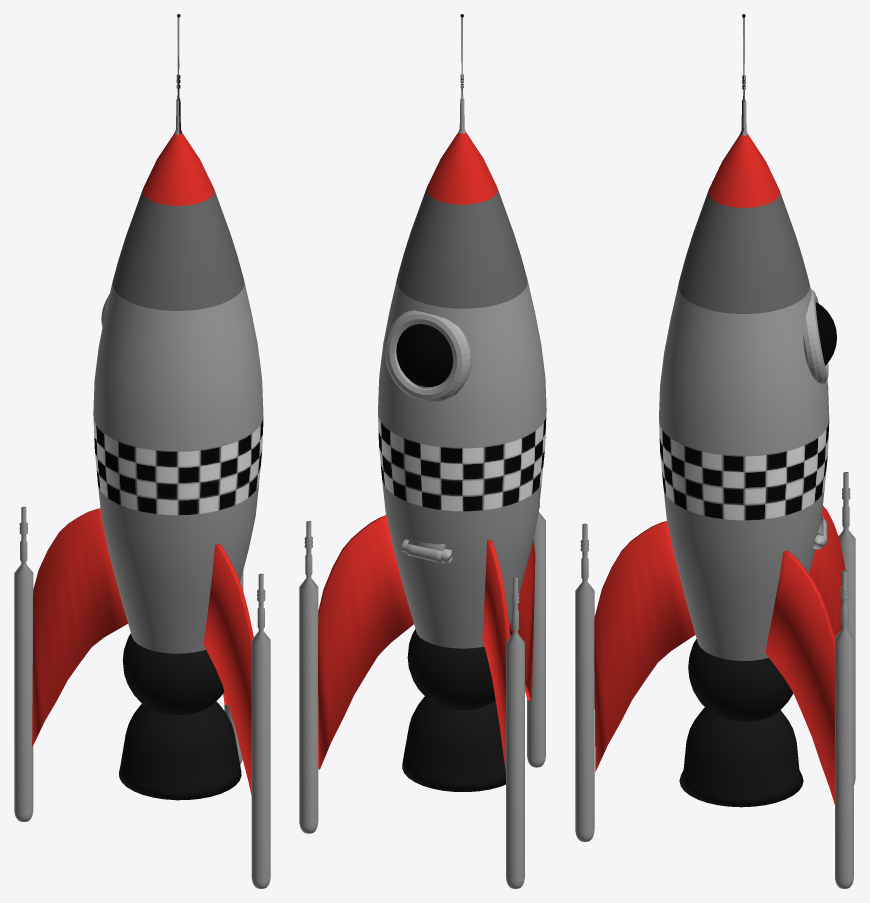
File: rocket.glb
The picture shows the model from 3 angles, left to right: view 1: azimuth 30°, elevation 25°; view 2: azimuth 150°, elevation 25°; view 3: azimuth 270°, elevation 25°; orthographic projection.
Parts seen in each view (by area): view 1: Cylinder_3, Plane.000_15, Cylinder.007_18, Cylinder.014_25, Cylinder.002_9, Plane.002_13, Sphere.001_5, Cylinder.005_12, Cylinder.003_14, Cylinder.008_19; view 2: Cylinder_3, Plane.001_11, Cylinder.007_18, Cylinder.014_25, Cylinder.002_9, Cylinder.004_10, Cylinder.003_14, Sphere.001_5, Cylinder.005_12, Torus_8, Cylinder.008_19, Plane.000_15 (+2 smaller); view 3: Cylinder_3, Plane.002_13, Cylinder.007_18, Cylinder.014_25, Cylinder.002_9, Plane.001_11, Sphere.001_5, Cylinder.005_12, Cylinder.004_10, Cylinder.008_19, Plane.000_15, Cylinder.003_14 (+2 smaller).
Part boxes in pixels (x1=…): Cylinder_3: x1=93, y1=134, x2=263, y2=653; Plane.000_15: x1=32, y1=508, x2=127, y2=746; Cylinder.007_18: x1=112, y1=190, x2=244, y2=310; Cylinder.014_25: x1=93, y1=415, x2=263, y2=515; Cylinder.002_9: x1=119, y1=701, x2=241, y2=800; Plane.002_13: x1=203, y1=543, x2=253, y2=795; Sphere.001_5: x1=123, y1=633, x2=224, y2=714; Cylinder.005_12: x1=251, y1=573, x2=270, y2=888; Cylinder.003_14: x1=14, y1=506, x2=33, y2=821; Cylinder.008_19: x1=142, y1=133, x2=214, y2=205; Cylinder_3: x1=378, y1=278, x2=546, y2=648; Plane.001_11: x1=318, y1=515, x2=413, y2=769; Cylinder.007_18: x1=397, y1=188, x2=527, y2=308; Cylinder.014_25: x1=378, y1=412, x2=546, y2=511; Cylinder.002_9: x1=402, y1=696, x2=505, y2=791; Cylinder.004_10: x1=299, y1=521, x2=318, y2=833; Cylinder.003_14: x1=506, y1=576, x2=524, y2=888; Sphere.001_5: x1=407, y1=629, x2=512, y2=710; Cylinder.005_12: x1=527, y1=501, x2=545, y2=767; Torus_8: x1=384, y1=310, x2=471, y2=401; Cylinder.008_19: x1=426, y1=132, x2=497, y2=204; Plane.000_15: x1=482, y1=540, x2=510, y2=771; Cylinder_3: x1=659, y1=286, x2=829, y2=660; Plane.002_13: x1=594, y1=521, x2=695, y2=771; Cylinder.007_18: x1=678, y1=191, x2=809, y2=313; Cylinder.014_25: x1=659, y1=420, x2=829, y2=520; Cylinder.002_9: x1=679, y1=707, x2=803, y2=807; Plane.001_11: x1=765, y1=550, x2=834, y2=804; Sphere.001_5: x1=688, y1=639, x2=793, y2=721; Cylinder.005_12: x1=575, y1=523, x2=594, y2=841; Cylinder.004_10: x1=835, y1=570, x2=853, y2=888; Cylinder.008_19: x1=708, y1=134, x2=779, y2=207; Plane.000_15: x1=809, y1=506, x2=845, y2=636; Cylinder.003_14: x1=838, y1=472, x2=855, y2=784.
Bounding box in the file's own units: 10.1 × 34.93 × 10.76.
19 materials, 1 textured.
